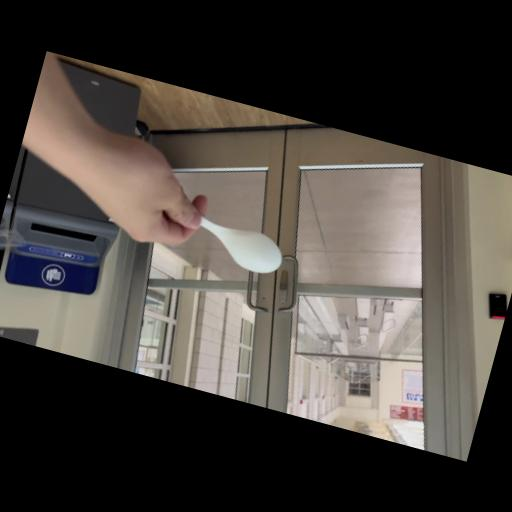utensil: (164, 204, 290, 278)
